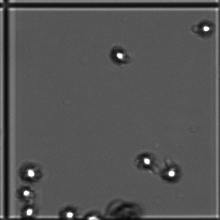Living Cell: (161, 157, 182, 186), (109, 42, 131, 66), (195, 19, 219, 41), (22, 158, 43, 181), (134, 145, 151, 173), (18, 203, 39, 218), (17, 186, 34, 200), (59, 203, 75, 216)
